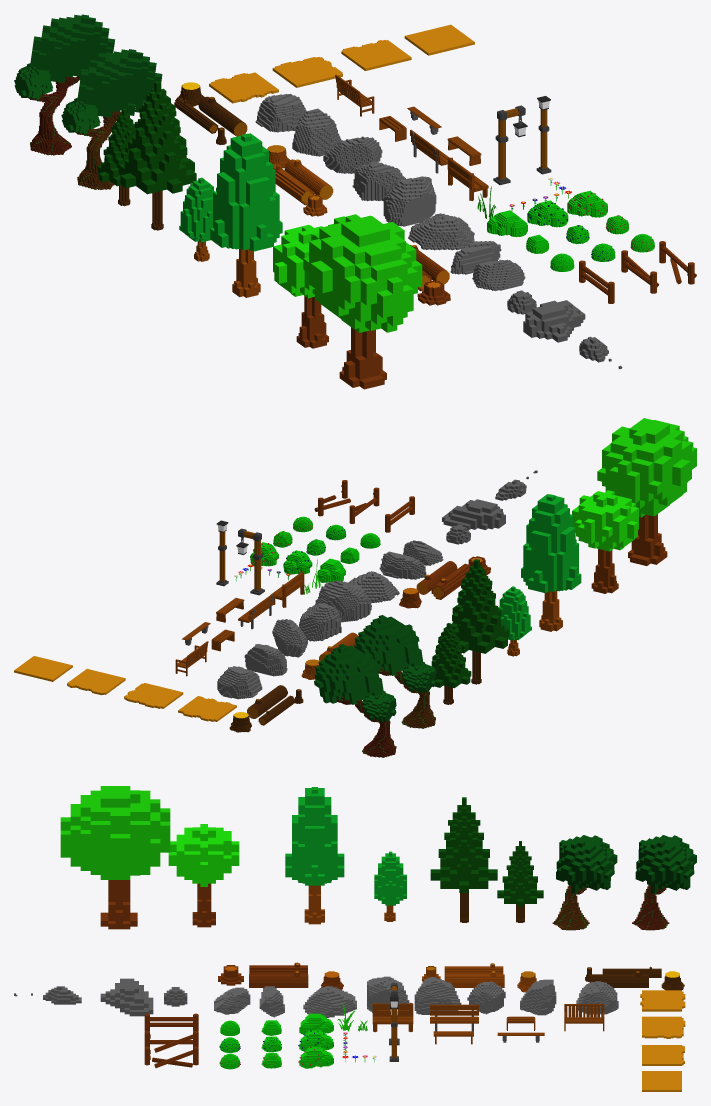
The model's file is Cuby Edited.fbx.
3 views of the same model, one above another, from view 1: azimuth 30°, elevation 25°; view 2: azimuth 150°, elevation 25°; view 3: azimuth 270°, elevation 25° (orthographic). The views are drawn at different scales.
Parts seen in each view (by area): view 1: Sphere.014, Sphere.003, Cone, Sphere.019, Sphere.018, Sphere.017, defaultMaterial.005, Cylinder.019, Icosphere.002, defaultMaterial.003, Sphere.016, defaultMaterial.007 (+31 smaller); view 2: Sphere.014, Sphere.003, Cone, Sphere.017, Sphere.018, Sphere.019, Cone.002, defaultMaterial.005, Icosphere.002, Cylinder.019, Sphere.016, defaultMaterial.006 (+23 smaller); view 3: Sphere.014, Sphere.003, Cone, Sphere.017, Sphere.018, Sphere.019, Cone.002, Sphere.016, Icosphere.002, Cylinder.019, defaultMaterial.003, defaultMaterial.006 (+29 smaller).
Boxes of the visible parts, <box> form: Sphere.014: <box>303,214,422,332</box>; Sphere.003: <box>210,133,282,251</box>; Cone: <box>118,81,196,194</box>; Sphere.019: <box>77,49,162,117</box>; Sphere.018: <box>30,14,115,82</box>; Sphere.017: <box>273,224,322,298</box>; defaultMaterial.005: <box>382,176,436,226</box>; Cylinder.019: <box>339,327,386,389</box>; Icosphere.002: <box>523,300,585,342</box>; defaultMaterial.003: <box>408,213,474,250</box>; Sphere.016: <box>179,177,214,242</box>; defaultMaterial.007: <box>292,108,341,156</box>; Sphere.014: <box>597,418,696,517</box>; Sphere.003: <box>521,494,581,592</box>; Cone: <box>446,559,509,653</box>; Sphere.017: <box>572,490,638,551</box>; Sphere.018: <box>314,644,383,704</box>; Sphere.019: <box>354,615,423,675</box>; Cone.002: <box>431,623,471,688</box>; defaultMaterial.005: <box>315,580,371,622</box>; Icosphere.002: <box>442,499,505,530</box>; Cylinder.019: <box>628,514,667,565</box>; Sphere.016: <box>498,586,531,640</box>; defaultMaterial.006: <box>299,603,341,641</box>; Sphere.014: <box>60,786,170,879</box>; Sphere.003: <box>285,787,344,885</box>; Cone: <box>430,797,497,892</box>; Sphere.017: <box>168,824,239,886</box>; Sphere.018: <box>635,835,696,893</box>; Sphere.019: <box>556,835,617,893</box>; Cone.002: <box>497,841,543,906</box>; Sphere.016: <box>374,851,406,905</box>; Icosphere.002: <box>100,978,153,1016</box>; Cylinder.019: <box>100,880,137,929</box>; defaultMaterial.003: <box>303,986,356,1017</box>; defaultMaterial.006: <box>414,977,461,1014</box>.
Size of the model in its own units: 4661 by 1528 by 6997.
